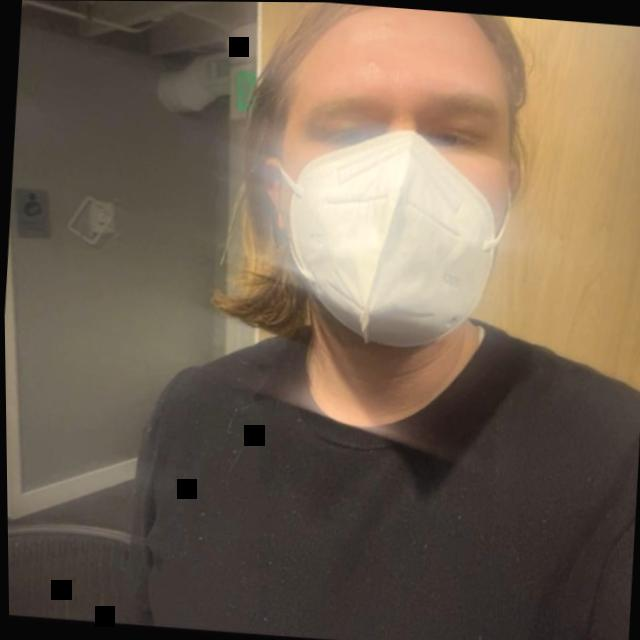Mask: (201, 1, 560, 361)
